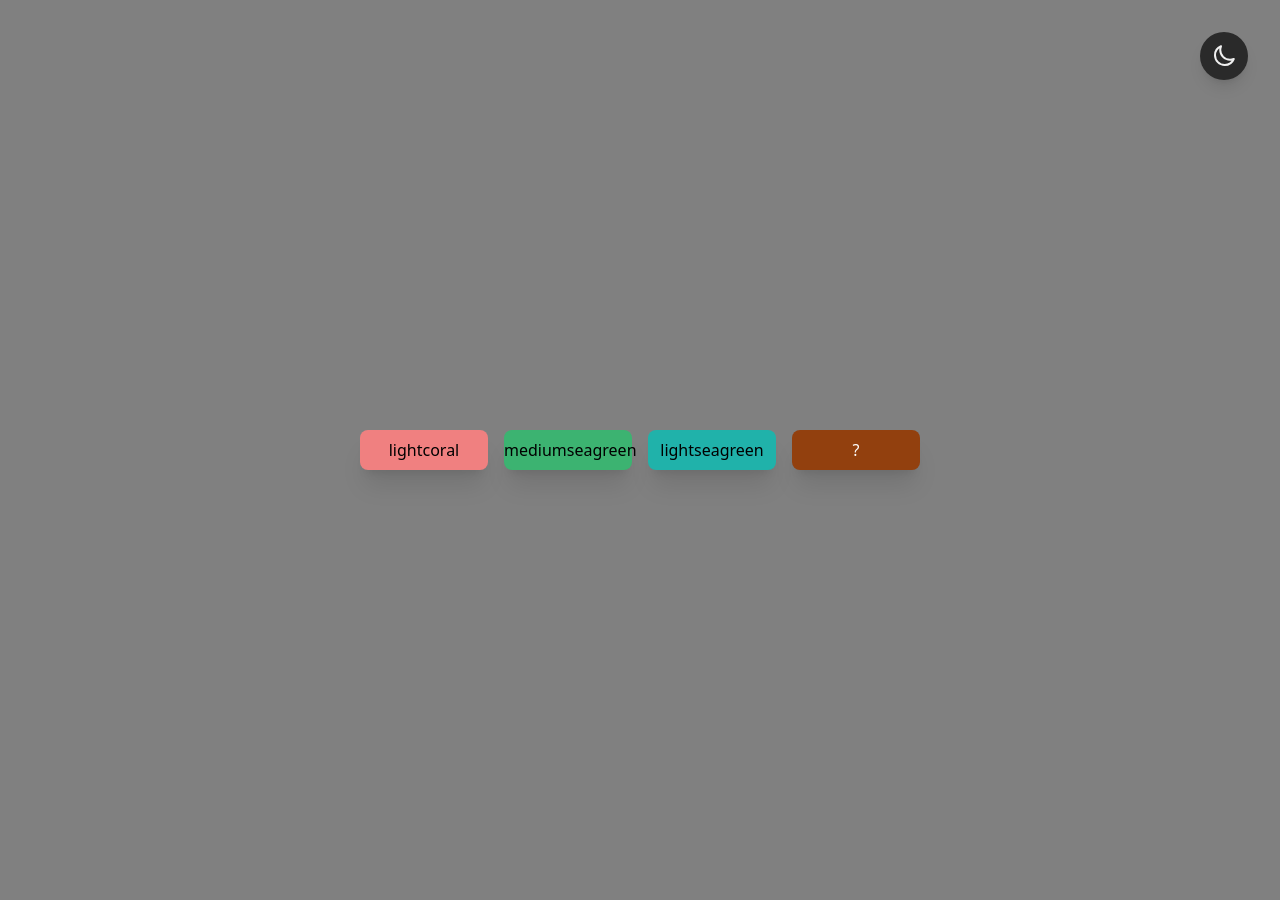
Scenario: Buttons Component › disables color buttons and resets background when party pooper is clicked
Click the button "lightcoral" at (424, 450), box [360,430,488,470]
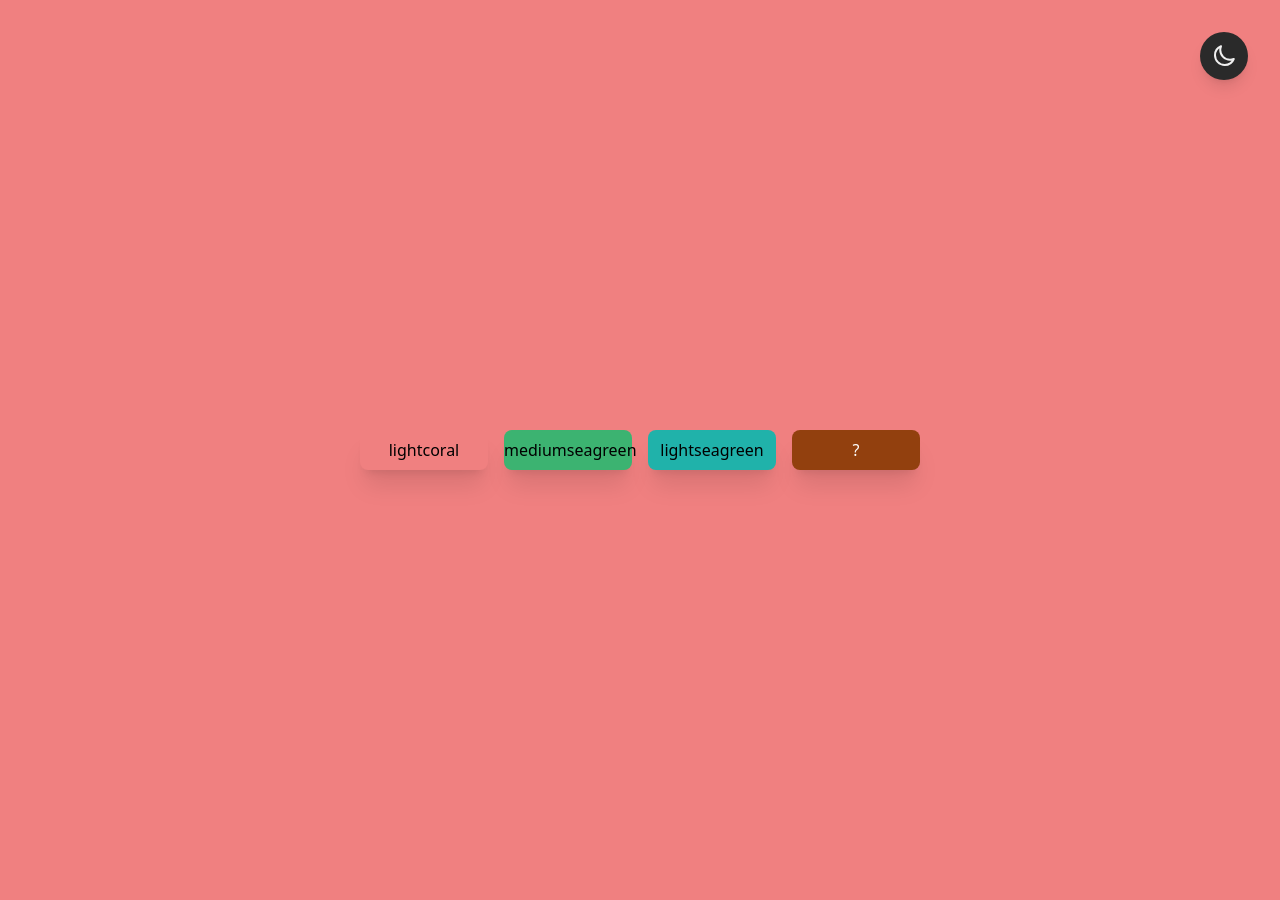
Click the button "?" at (856, 450), box [792,430,920,470]
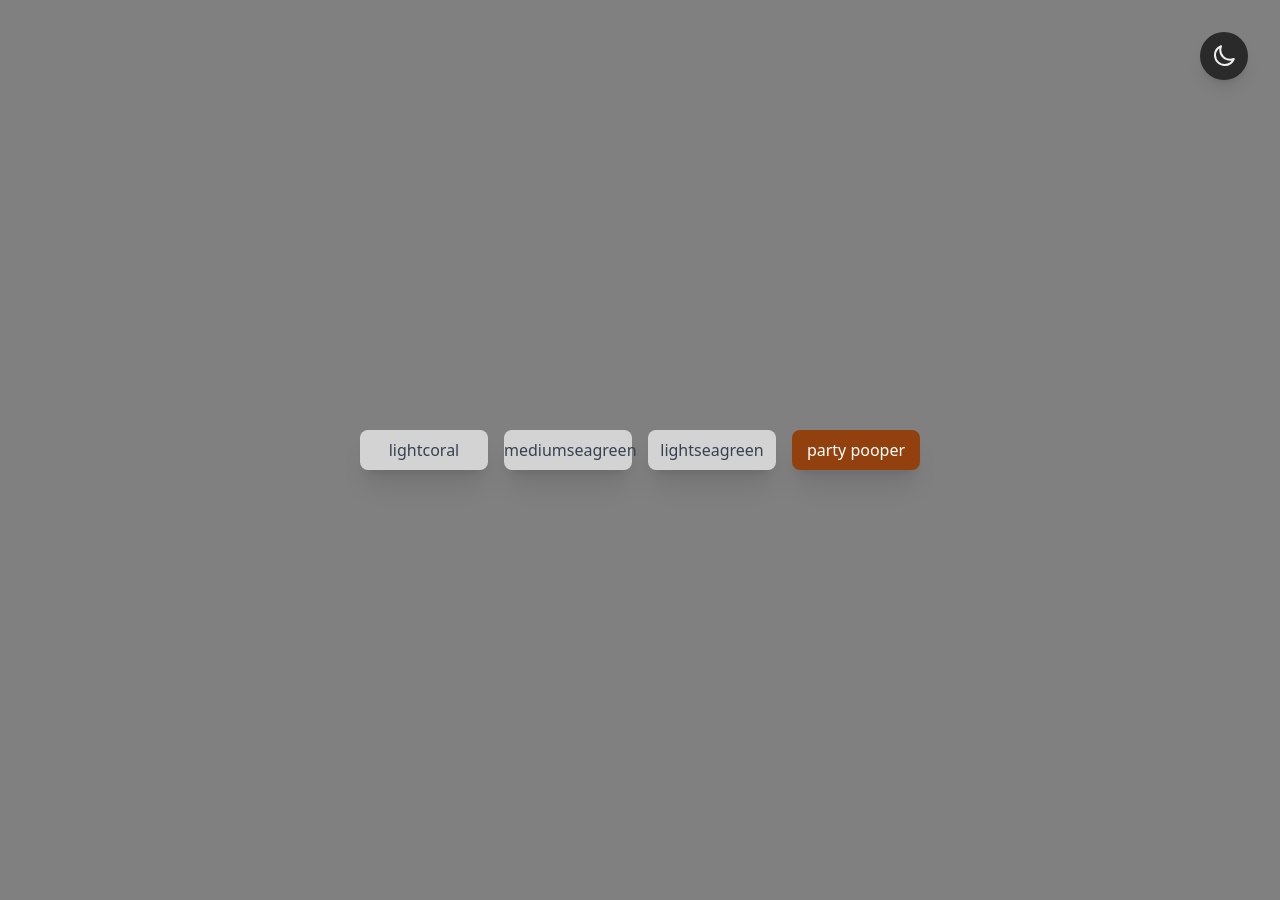
Expected: the button "lightcoral" is disabled, [360,430,488,470]
Expected: the button "mediumseagreen" is disabled, [504,430,632,470]
Expected: the button "lightseagreen" is disabled, [648,430,776,470]
Note: Now "party pooper" text appears after clicking
Click the button "party pooper" at (856, 450), box [792,430,920,470]
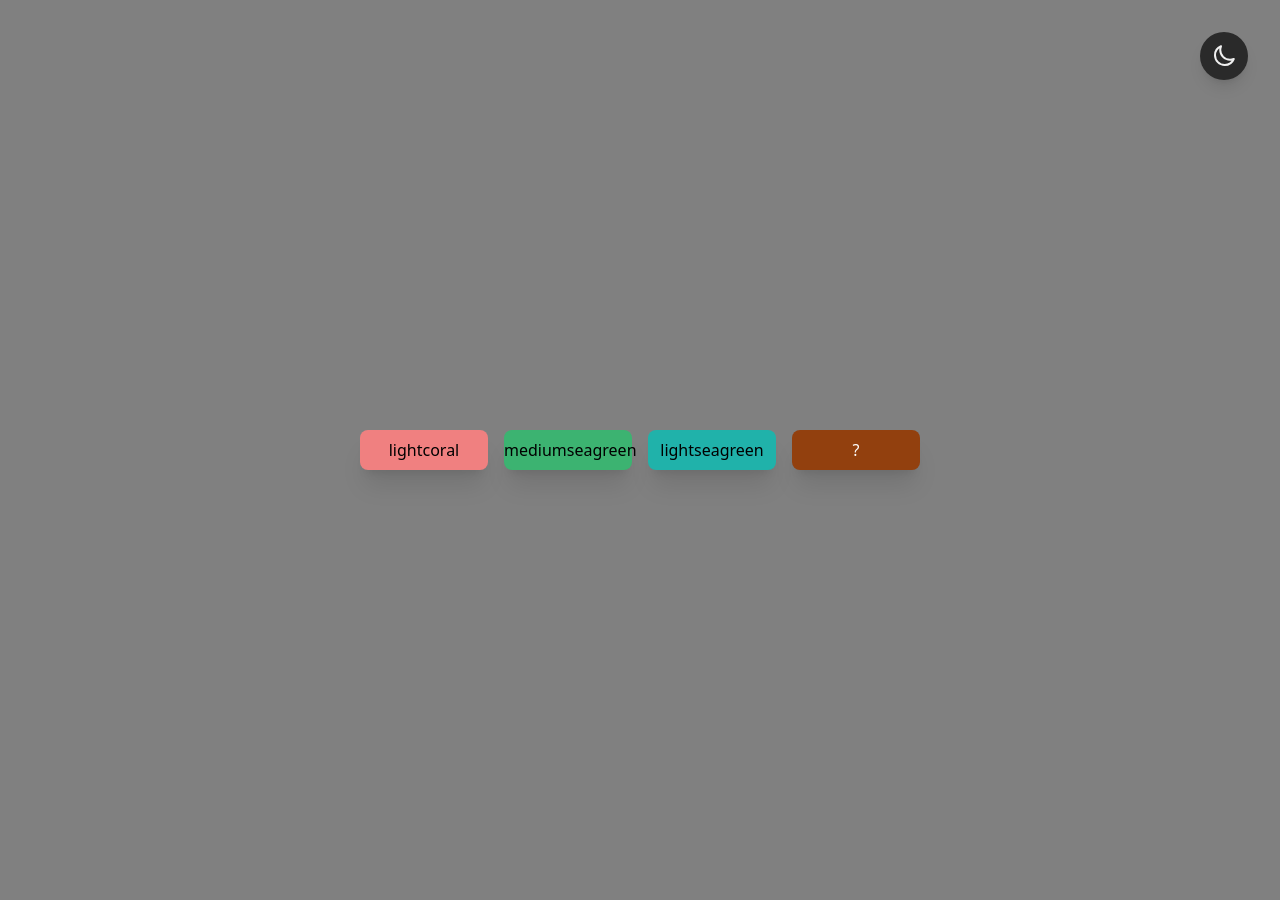
Expected: the button "lightcoral" is enabled, [360,430,488,470]
Expected: the button "mediumseagreen" is enabled, [504,430,632,470]
Expected: the button "lightseagreen" is enabled, [648,430,776,470]
